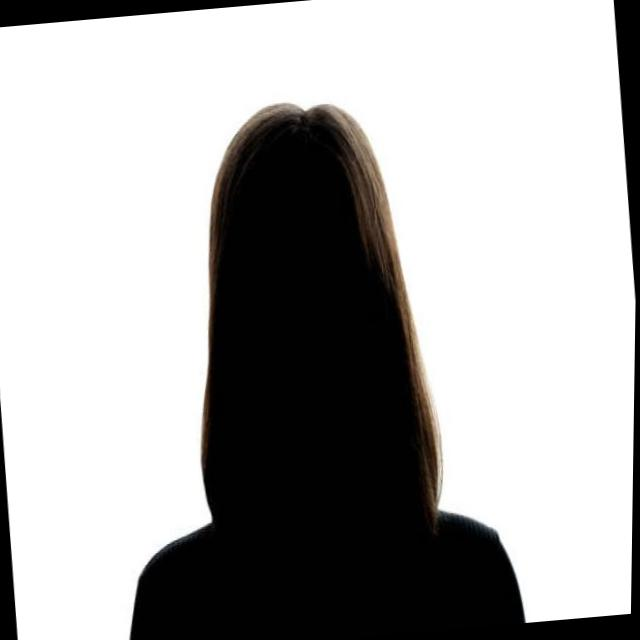no helmet: (178, 94, 441, 550)
